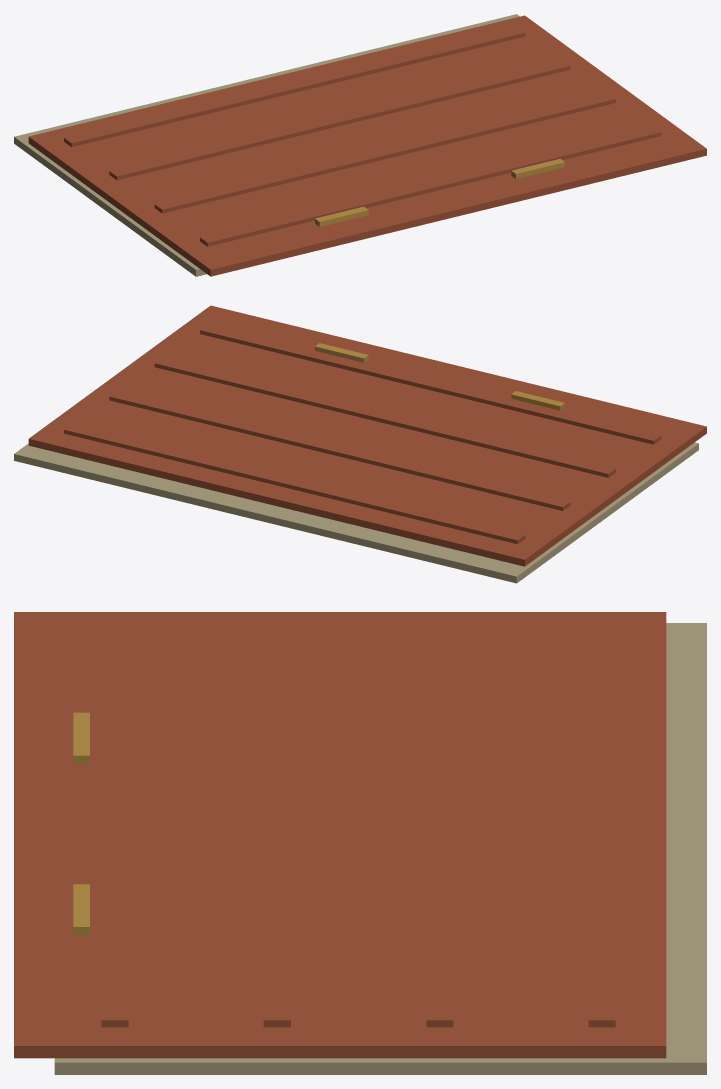
File: drone4_doors.obj
The picture shows the model from 3 angles, top to bottom: view 1: azimuth 30°, elevation 25°; view 2: azimuth 150°, elevation 25°; view 3: azimuth 270°, elevation 25°; orthographic projection. The views are drawn at different scales.
Visible parts, largest first — view 1: drone4_doors; view 2: drone4_doors; view 3: drone4_doors.
Part boxes in pixels (<box>): drone4_doors: <box>14,14,706,276</box>; drone4_doors: <box>14,305,706,583</box>; drone4_doors: <box>14,612,706,1074</box>.
Bounding box in the file's own units: 3.07 × 0.115 × 2.05.
